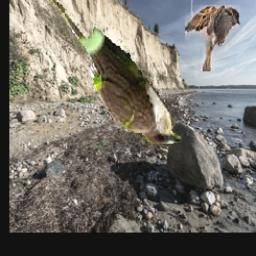Cuckoo: (49, 0, 182, 147)
Sparrow: (184, 5, 239, 71)
